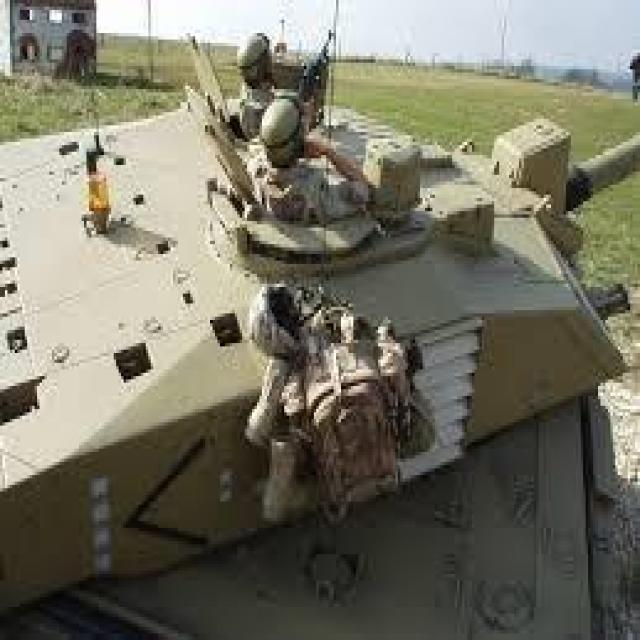Tanks: (9, 102, 622, 624)
